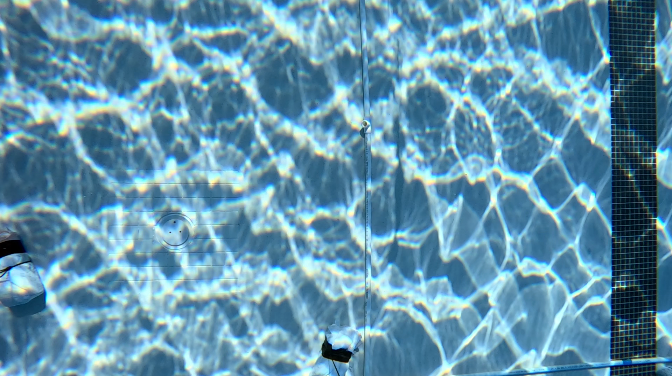sandbag: (0, 230, 42, 307), (310, 325, 359, 375)
